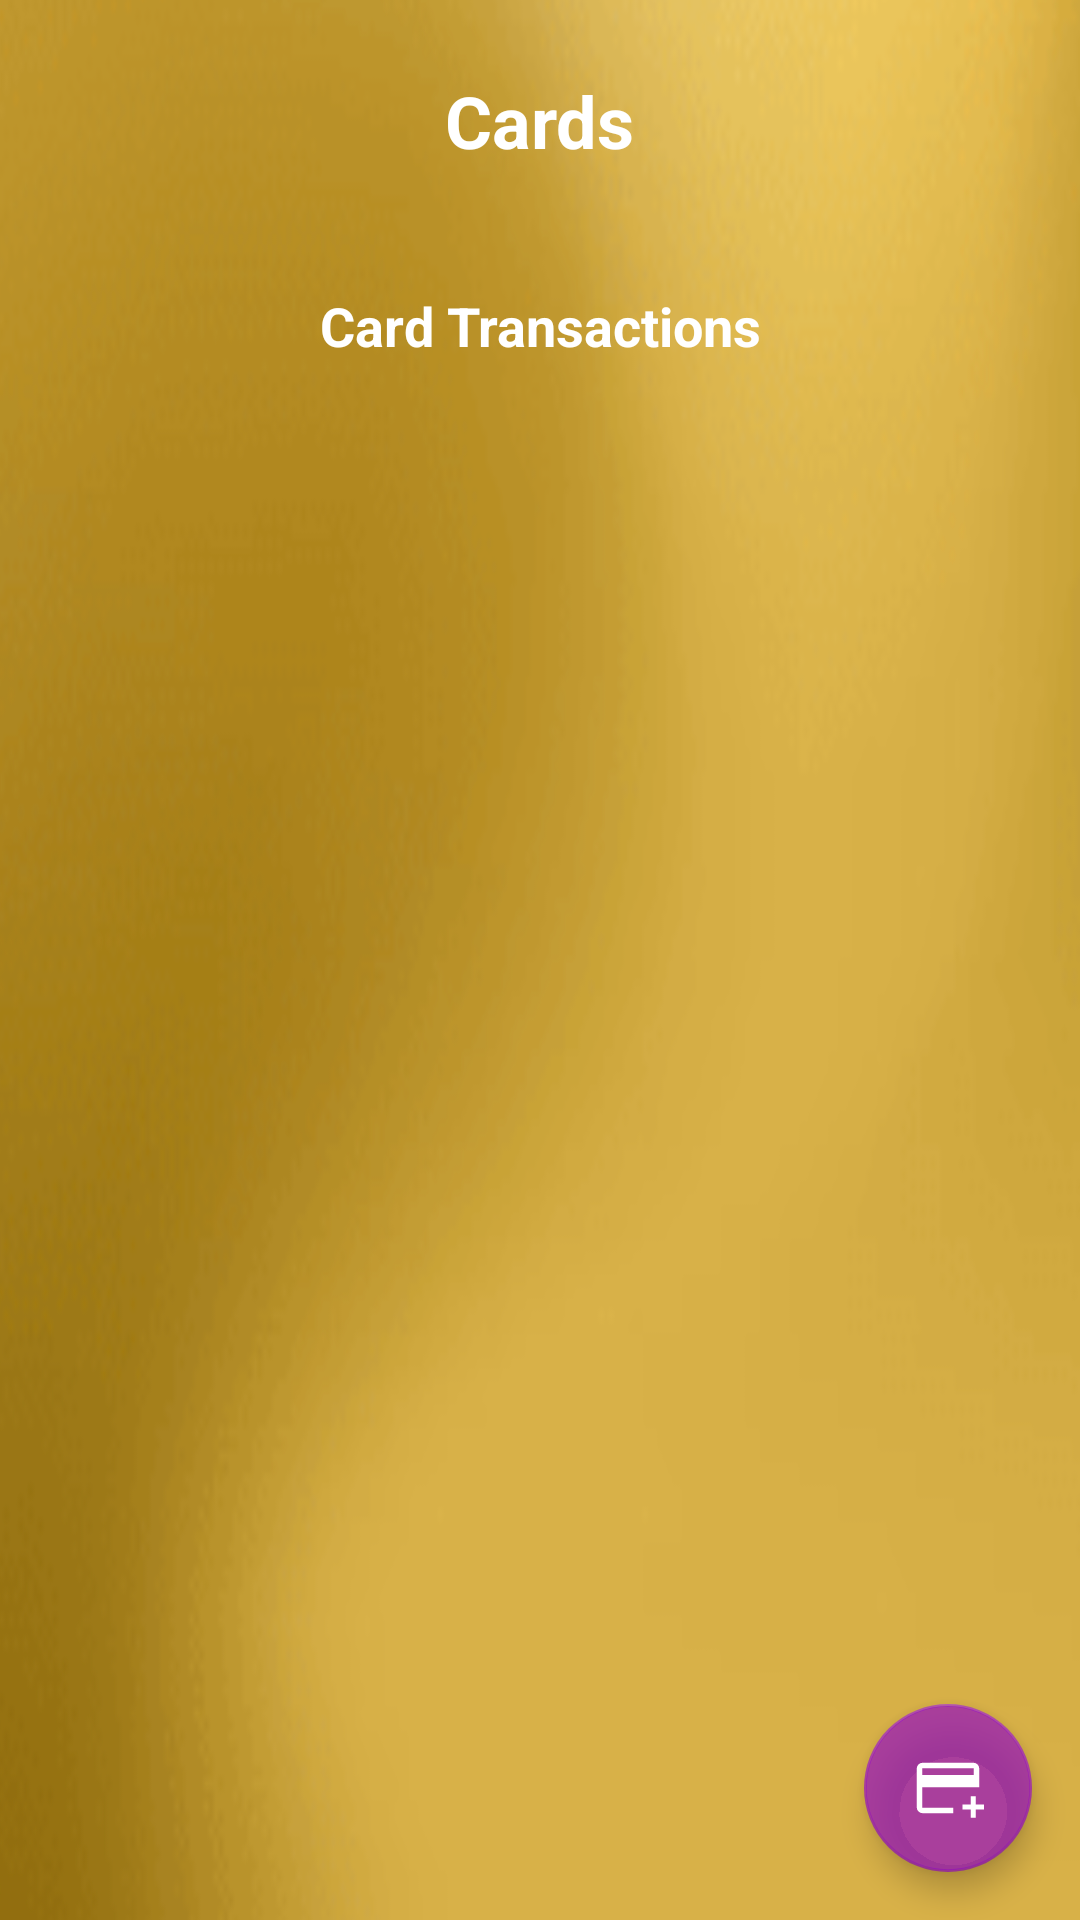

Where to tap for icons on this 1080x1920 app screen, as (x=x, y=y):
Add new card: (x=948, y=1788)
